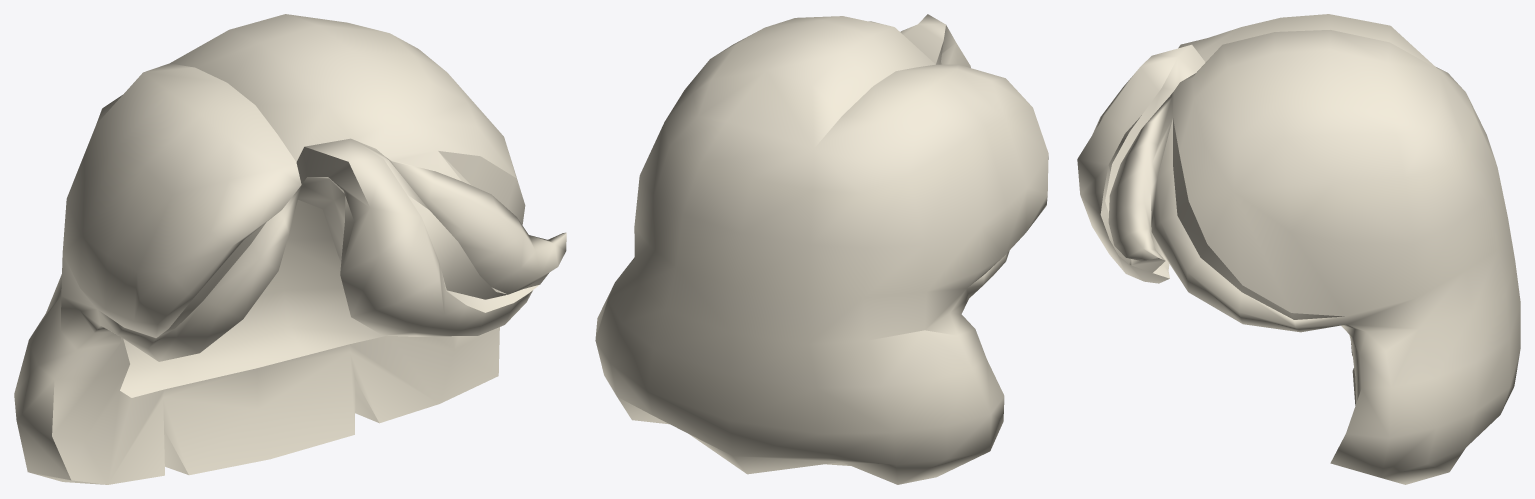
File: Hair_26.fbx
The picture shows the model from 3 angles, left to right: view 1: azimuth 30°, elevation 25°; view 2: azimuth 150°, elevation 25°; view 3: azimuth 270°, elevation 25°; orthographic projection. The views are drawn at different scales.
Parts seen in each view (by area): view 1: Hair_26; view 2: Hair_26; view 3: Hair_26.
Part boxes in pixels (x1,y1,x2,y2): Hair_26: (14,14,566,484); Hair_26: (595,14,1048,484); Hair_26: (1077,14,1520,484).
Size of the model in its own units: 67.35 by 62.65 by 64.72.
